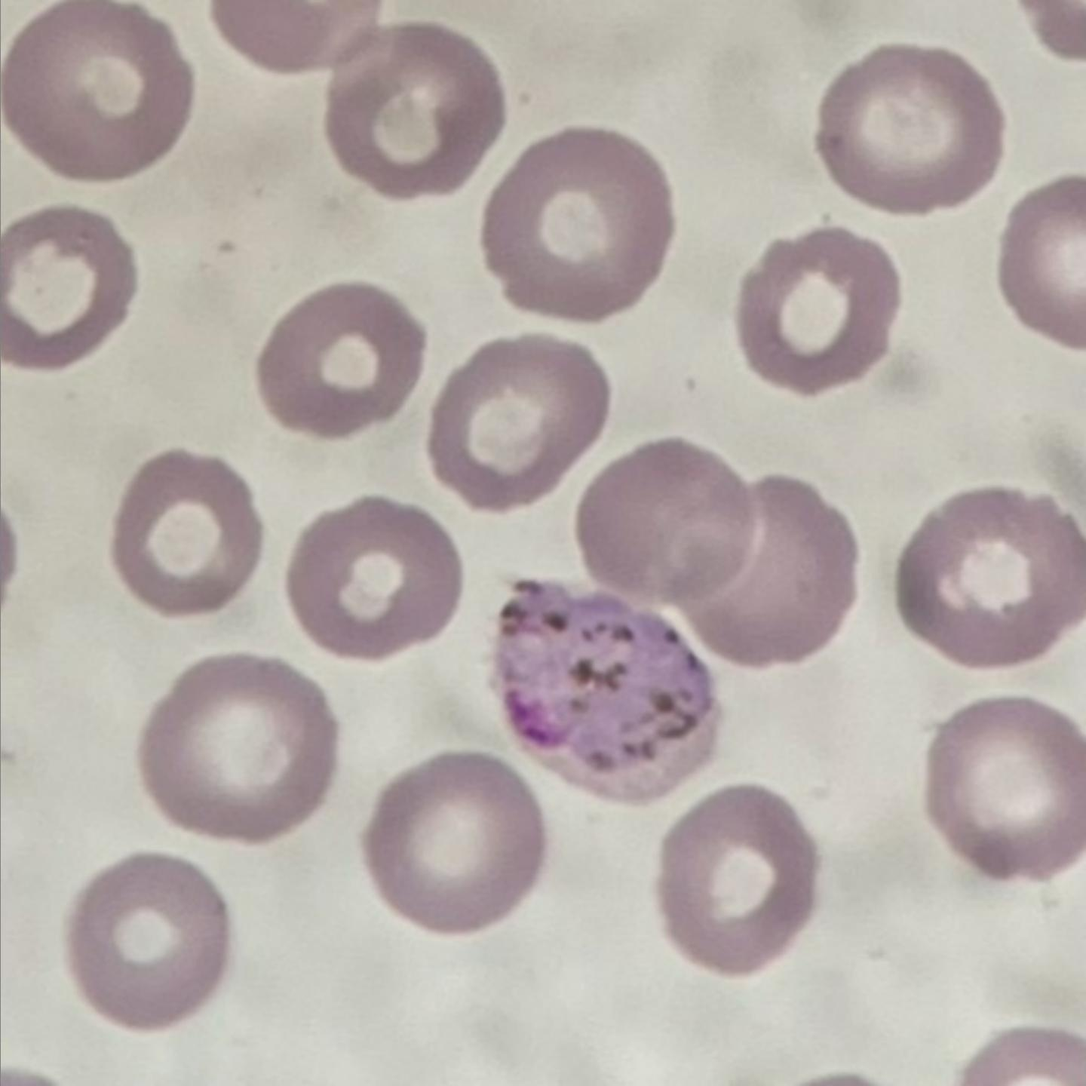Infected: (493, 569, 712, 799)
Uninfected: (141, 654, 337, 838), (483, 132, 674, 320), (0, 1, 193, 179), (362, 750, 550, 932), (895, 489, 1086, 663), (684, 478, 858, 665), (427, 333, 612, 506), (654, 785, 816, 974), (329, 26, 506, 197), (583, 433, 754, 608), (734, 227, 905, 397), (925, 705, 1086, 878), (70, 856, 226, 1029), (297, 494, 463, 655), (256, 282, 424, 439), (111, 443, 260, 610)
